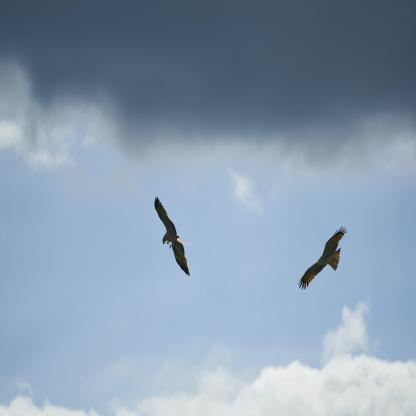bird: (297, 226, 348, 290), (154, 196, 192, 277)
